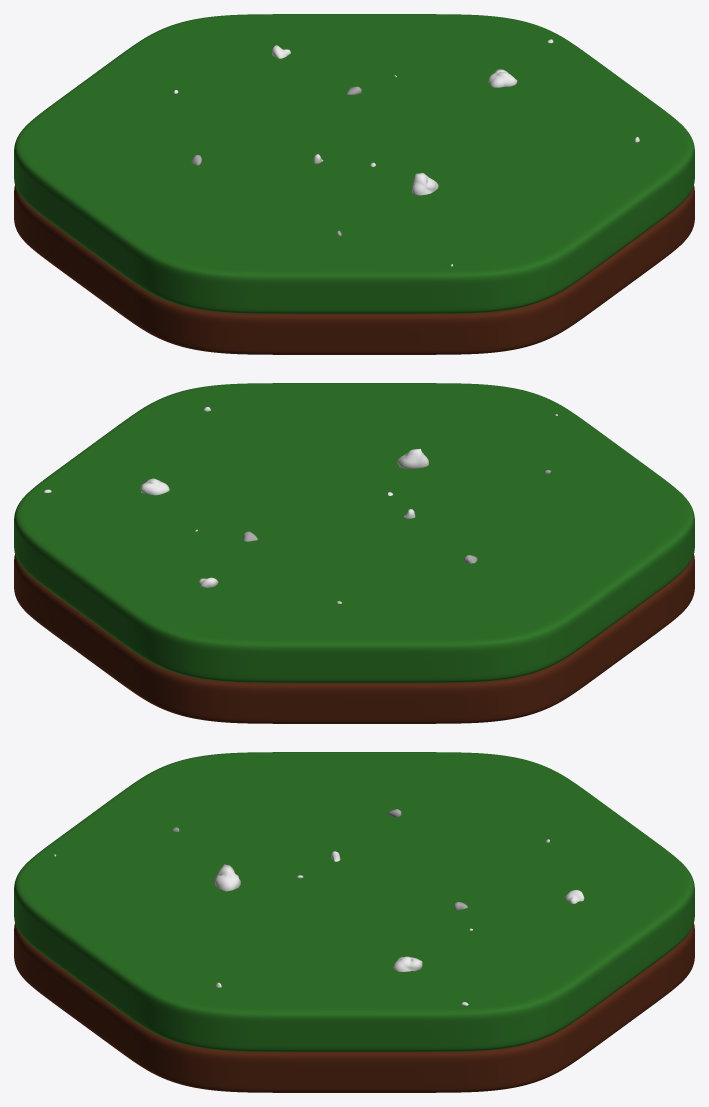
File: grassrock.glb
3 renders of one model, top to bottom at view 1: azimuth 30°, elevation 25°; view 2: azimuth 150°, elevation 25°; view 3: azimuth 270°, elevation 25°, orthographic.
Visible parts, largest first — view 1: Top-Grass, Bottom-Rock; view 2: Top-Grass, Bottom-Rock; view 3: Top-Grass, Bottom-Rock.
Boxes of the visible parts, box(x1,y1,x2,y2) form: Top-Grass: box(14, 14, 694, 313); Bottom-Rock: box(14, 185, 694, 354); Top-Grass: box(14, 383, 694, 682); Bottom-Rock: box(14, 554, 694, 723); Top-Grass: box(14, 752, 694, 1051); Bottom-Rock: box(14, 923, 694, 1092).
Size of the model in its own units: 27.71 by 4.81 by 30.23.
